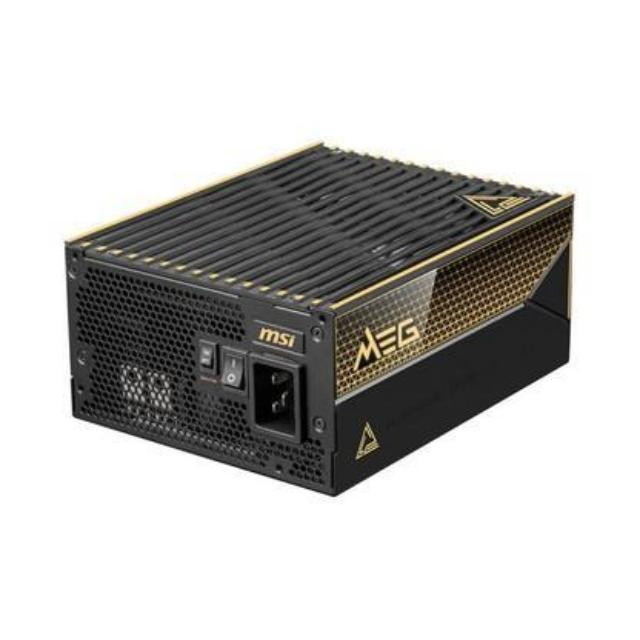PSU: (54, 134, 586, 502)
